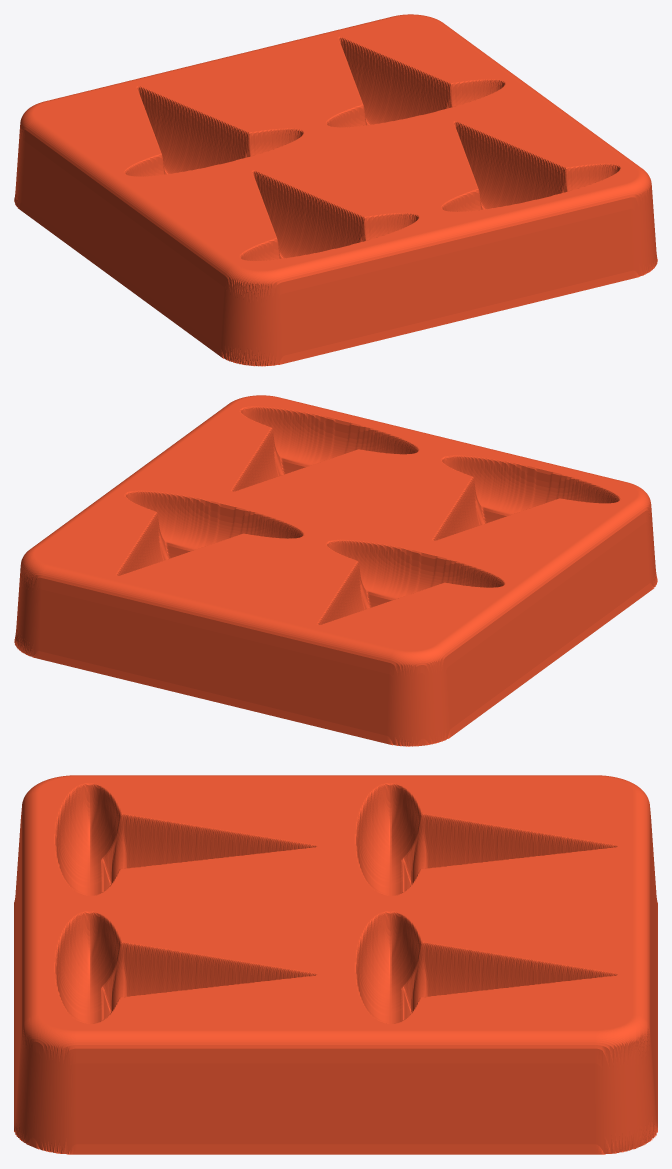
The model's file is mold.glb.
3 views of the same model, one above another, from view 1: azimuth 30°, elevation 25°; view 2: azimuth 150°, elevation 25°; view 3: azimuth 270°, elevation 25° (orthographic). The views are drawn at different scales.
Parts seen in each view (by area): view 1: geometry_0; view 2: geometry_0; view 3: geometry_0.
Boxes of the visible parts, x1,y1,x2,y2 form: geometry_0: [14, 14, 657, 366]; geometry_0: [14, 395, 657, 746]; geometry_0: [14, 775, 657, 1154].
Size of the model in its own units: 0.0942 by 0.0182 by 0.0934.
